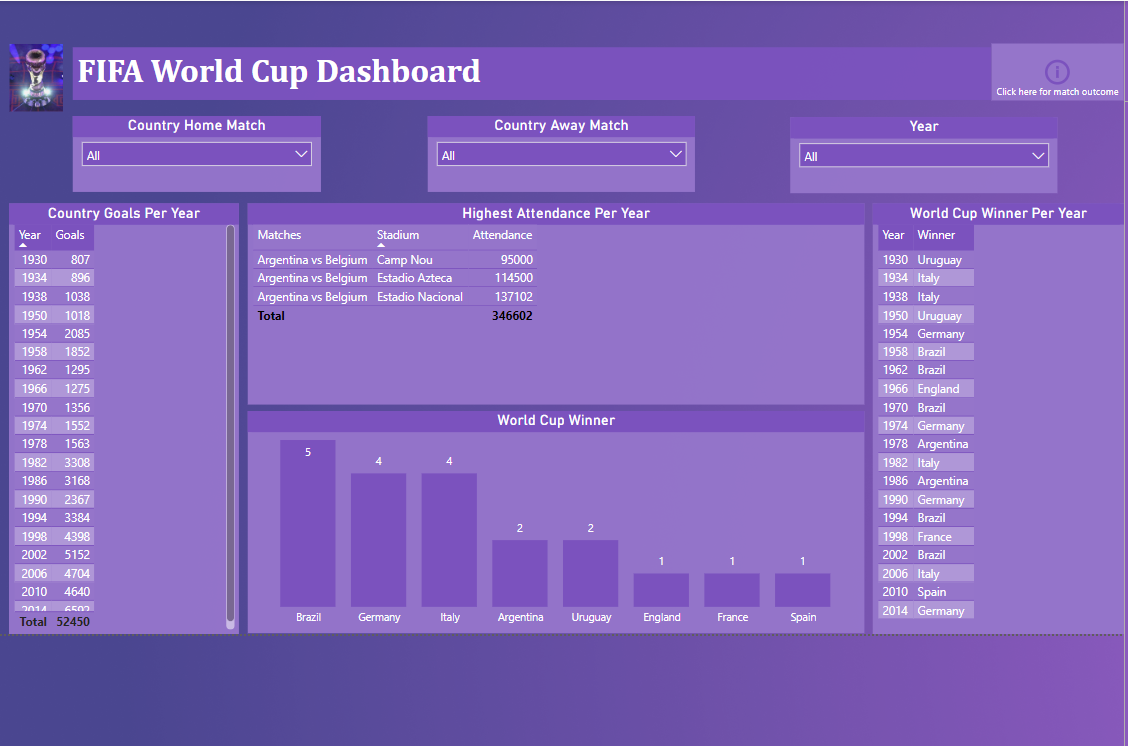

The dashboard page shown, as its layout file describes it:
{"tool":"powerbi","page":{"name":"Winner","canvas":[1280,720],"ordinal":0},"visuals":[{"type":"columnChart","title":"World Cup Winner","fields":{"Category":["WorldCups.Winner"],"Y":["CountNonNull(WorldCups.Year)"]},"box":[282.4,467,701.7,253],"z":0},{"type":"slicer","title":"Country Home Match","fields":{"Values":["TeamGoals.Home Team Initials"]},"box":[84.3,130.8,282.4,86.8],"z":1000},{"type":"slicer","title":"Country Away Match","fields":{"Values":["TeamGoals.Away Team Initials"]},"box":[487.7,130.8,304.4,86.8],"z":2000},{"type":"tableEx","title":"Country Goals Per Year","fields":{"Values":["TeamGoals.Year","Sum(TeamGoals.Goals)"]},"box":[11,229.8,261.6,490.2],"z":3000},{"type":"slicer","title":"Year","fields":{"Values":["WorldCupMatches.Year"]},"box":[900.9,132,304.4,86.8],"z":4000},{"type":"tableEx","title":"Highest Attendance Per Year","fields":{"Values":["WorldCupMatches.Matches","WorldCupMatches.Stadium","Sum(WorldCupMatches.Attendance)"]},"box":[282.4,229.8,701.7,228.6],"z":5000},{"type":"tableEx","title":"World Cup Winner Per Year","fields":{"Values":["WorldCups.Year","WorldCups.Winner"]},"box":[993.8,229.8,286,490.2],"z":6000},{"type":"actionButton","box":[1129.5,47.7,150.4,64.8],"z":7000},{"type":"image","box":[0,44,84.3,86.8],"z":8000},{"type":"textbox","box":[84.3,52.6,1045.2,59.9],"z":9000}]}

Visuals, with their boxes on the page's 1280x720 design canvas (x1, y1, x2, y2). These are canvas units, not pixel positions in the 1128x746 screenshot, which may show the page scaled, cropped or inside an application window:
"World Cup Winner" columnChart: 282/467/984/720
"Country Home Match" slicer: 84/131/367/218
"Country Away Match" slicer: 488/131/792/218
"Country Goals Per Year" tableEx: 11/230/273/720
"Year" slicer: 901/132/1205/219
"Highest Attendance Per Year" tableEx: 282/230/984/458
"World Cup Winner Per Year" tableEx: 994/230/1280/720
actionButton: 1130/48/1280/112
image: 0/44/84/131
textbox: 84/53/1130/112
